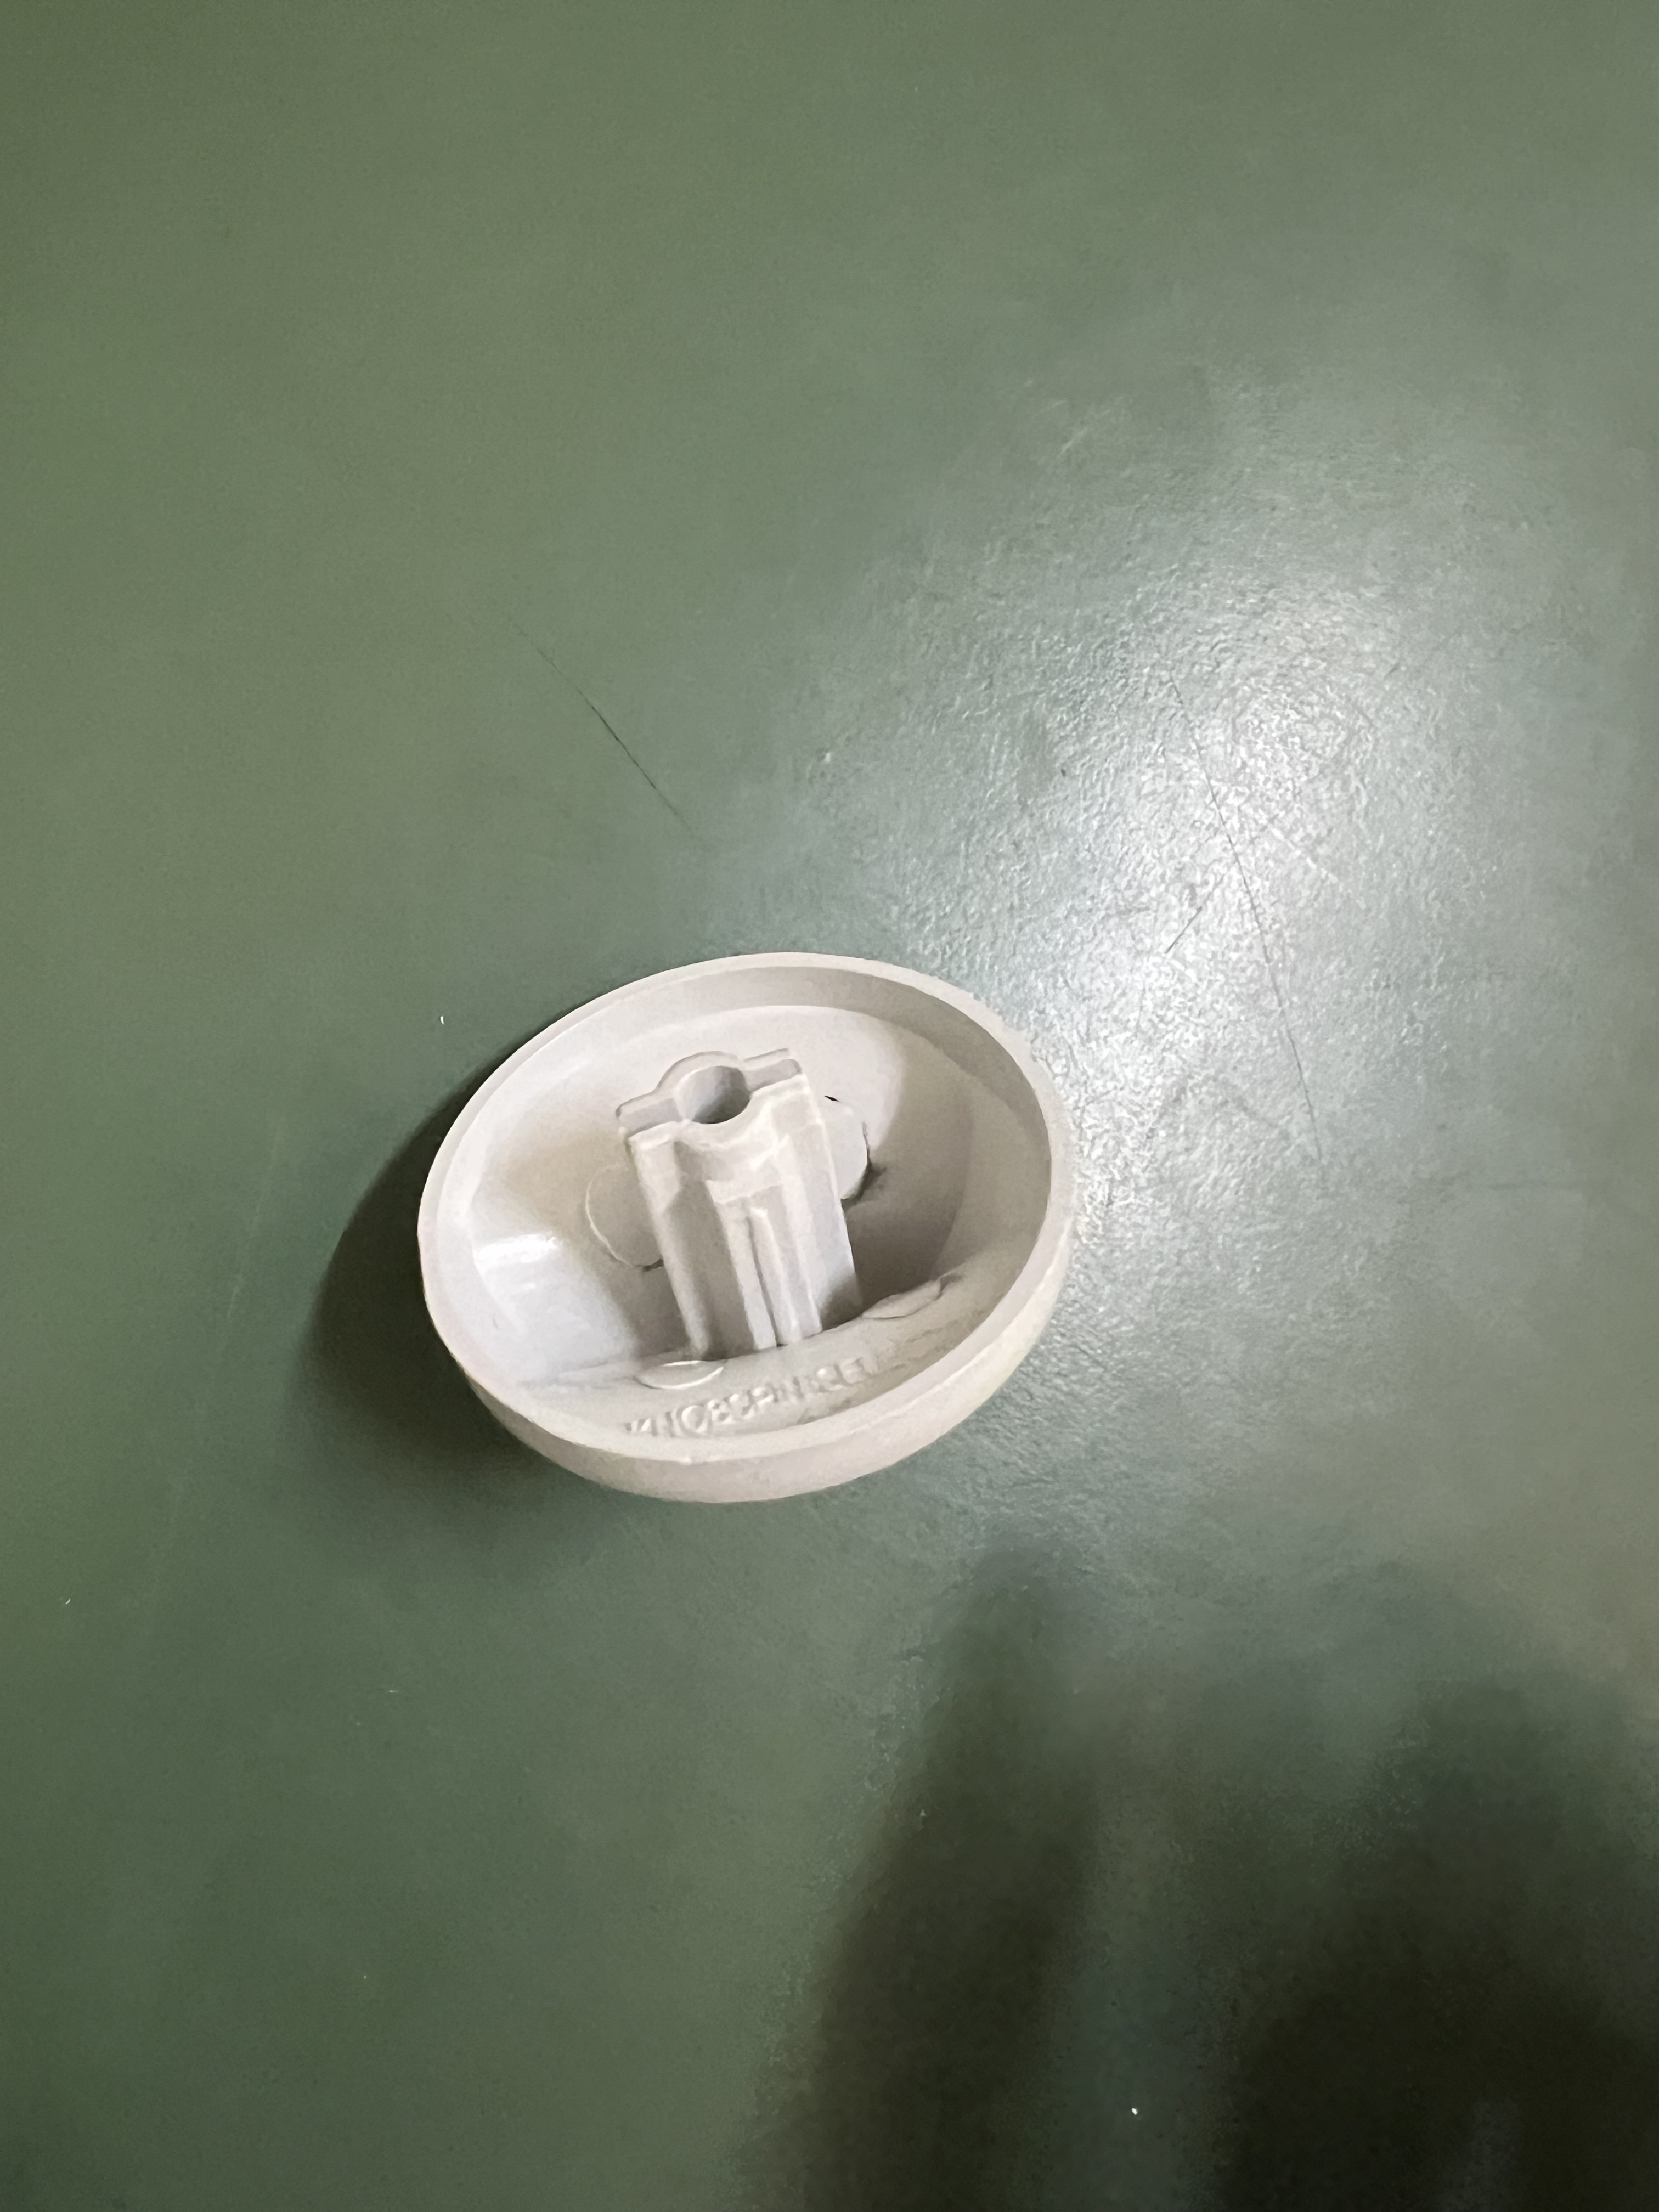regulator: (418, 935, 1107, 1474)
